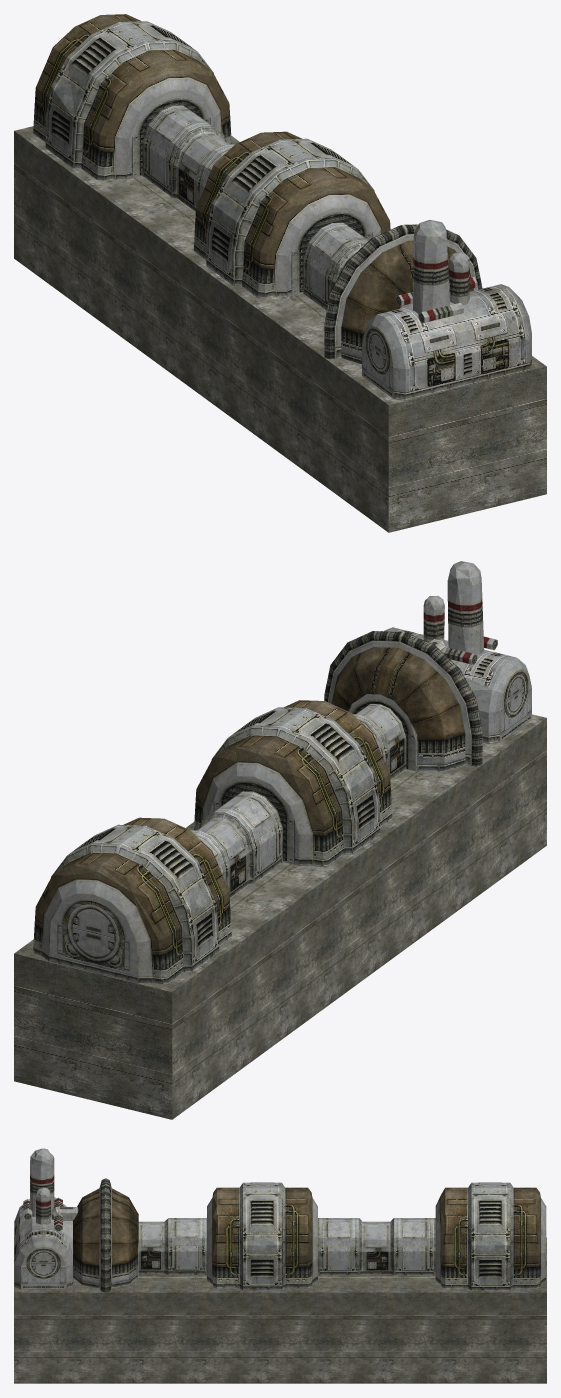
File: ins_all_pow_fusion_ion_u0_l1.fbx
The picture shows the model from 3 angles, top to bottom: view 1: azimuth 30°, elevation 25°; view 2: azimuth 150°, elevation 25°; view 3: azimuth 270°, elevation 25°; orthographic projection. The views are drawn at different scales.
Visible parts, largest first — view 1: mesh_node; view 2: mesh_node; view 3: mesh_node.
Part boxes in pixels (box(x1,y1,x2,y2)): mesh_node: box(14, 14, 546, 532); mesh_node: box(14, 561, 546, 1119); mesh_node: box(14, 1148, 546, 1383).
Bounding box in the file's own units: 4.05 × 6.91 × 16.62.
